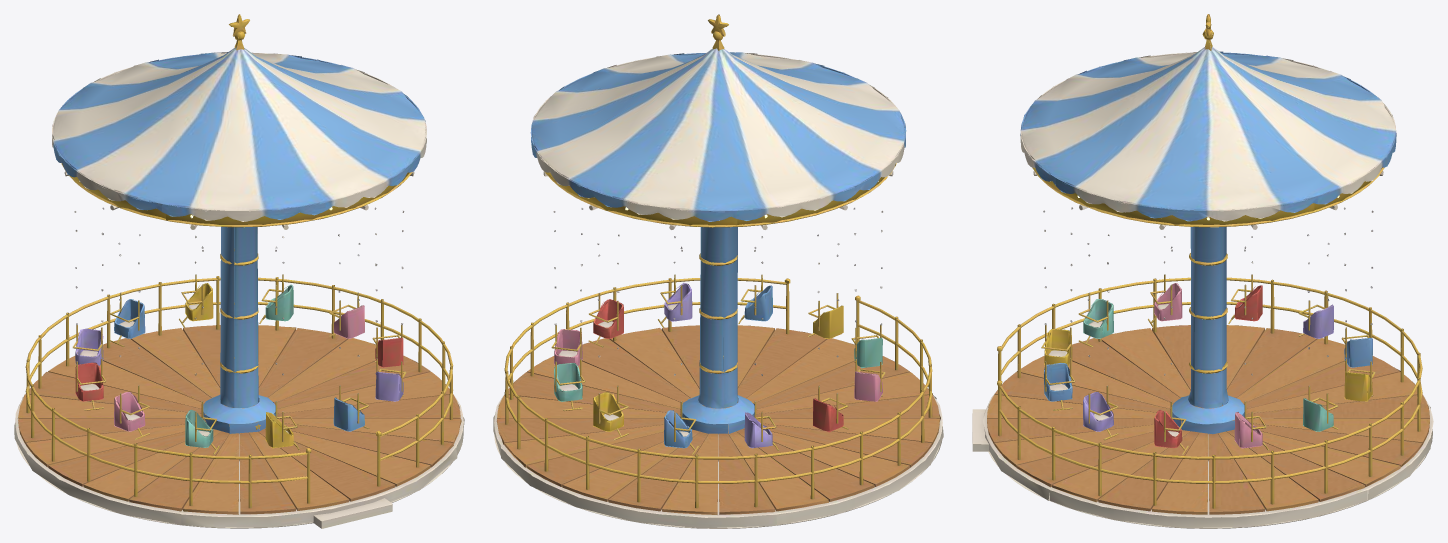
File: sillas_voladoras.glb
The picture shows the model from 3 angles, left to right: view 1: azimuth 30°, elevation 25°; view 2: azimuth 150°, elevation 25°; view 3: azimuth 270°, elevation 25°; orthographic projection.
Visible parts, largest first — view 1: swing-ride_body; view 2: swing-ride_body; view 3: swing-ride_body.
Boxes of the visible parts, x1=… form: swing-ride_body: x1=14, y1=14, x2=464, y2=528; swing-ride_body: x1=493, y1=14, x2=943, y2=528; swing-ride_body: x1=972, y1=14, x2=1433, y2=528.
Size of the model in its own units: 7.54 by 7.79 by 7.74.
3 materials, 2 textured.
